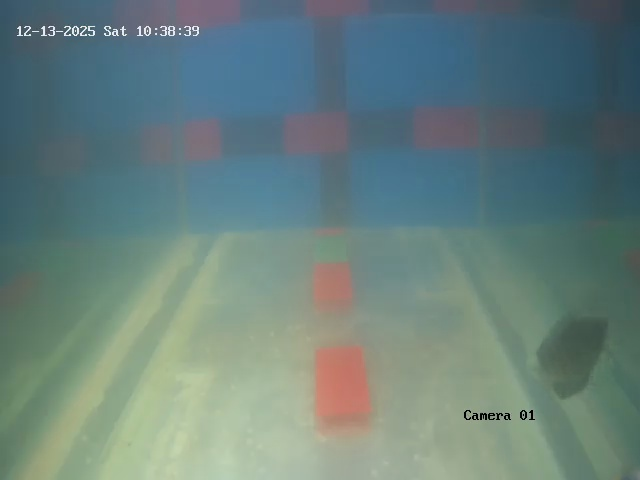fish: (538, 314, 609, 397)
